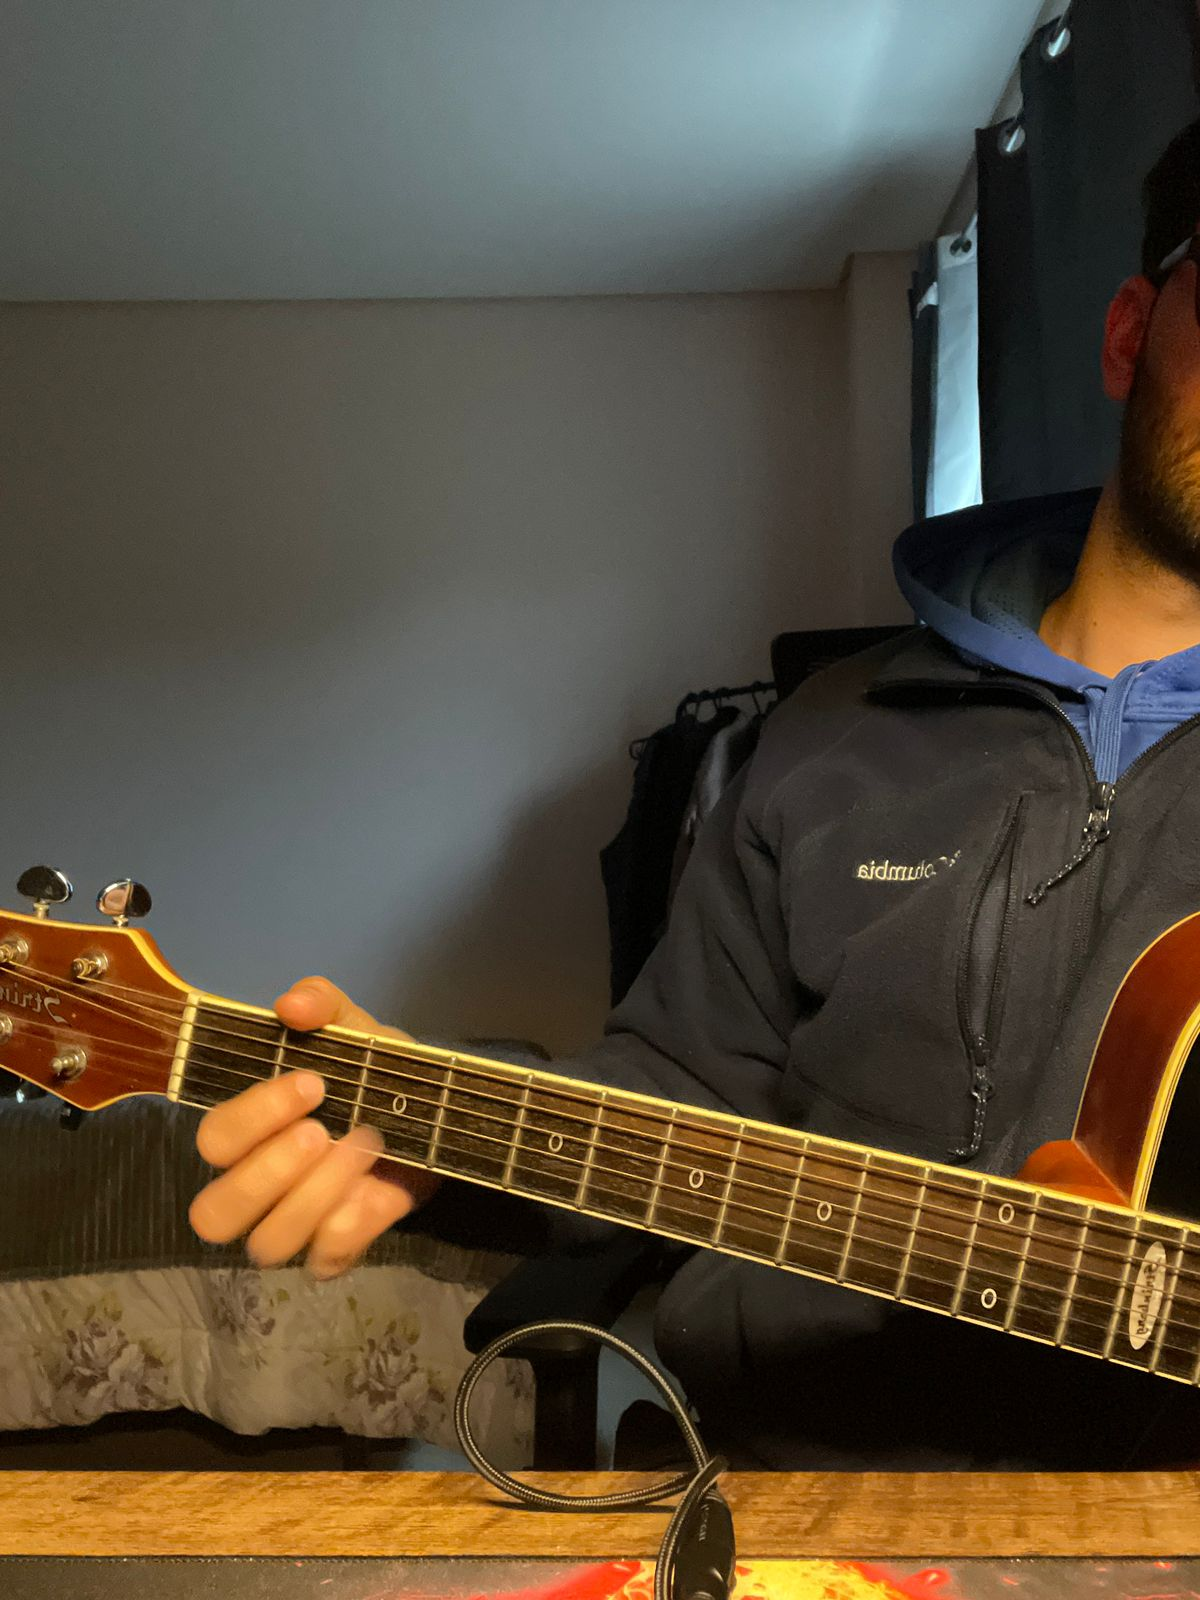re: (232, 1022, 411, 1170)
violao: (9, 829, 1200, 1493)
